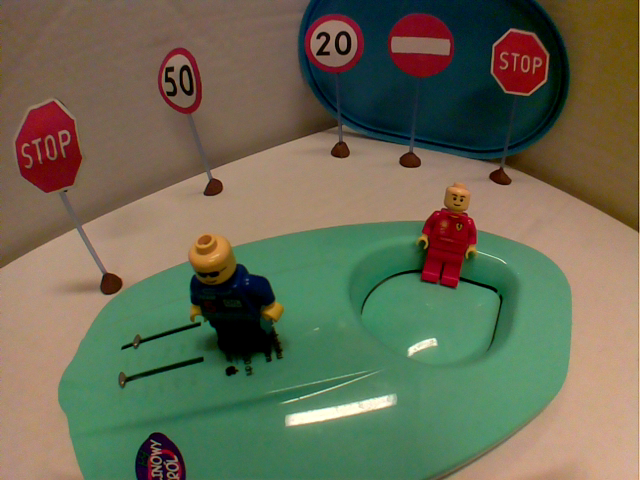Ograniczenie 20: (302, 11, 367, 78)
Ograniczenie 50: (154, 45, 205, 117)
Postac LEGO: (180, 227, 286, 364), (410, 180, 482, 295)
Stop: (11, 95, 85, 197), (487, 23, 554, 100)
Zakaz: (386, 10, 458, 84)
